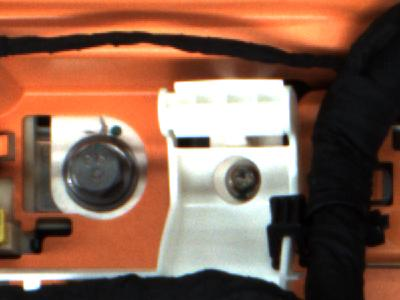nut_b: (63, 130, 138, 213)
